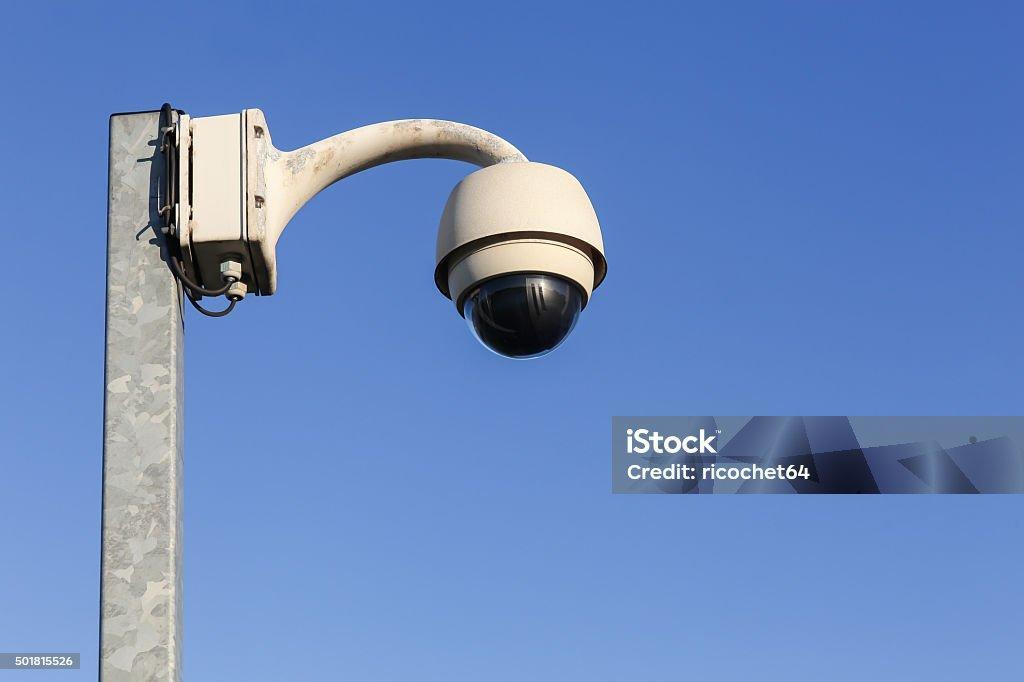360-Cam: (434, 159, 614, 370)
